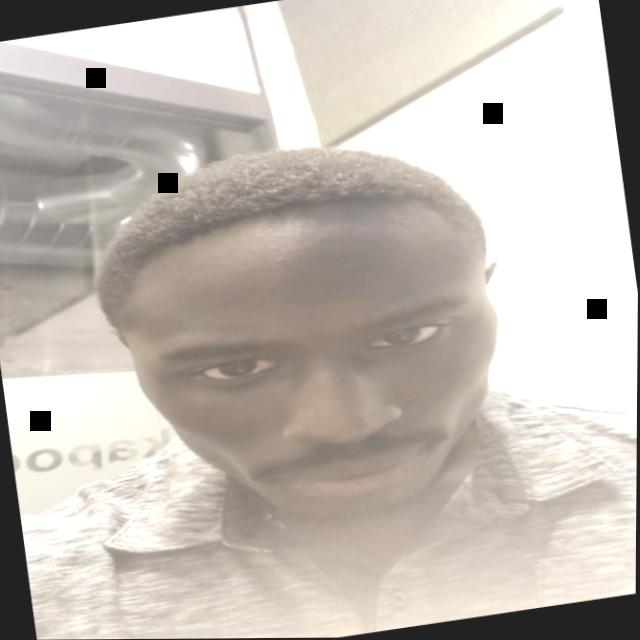NO-Mask: (96, 219, 534, 552)
